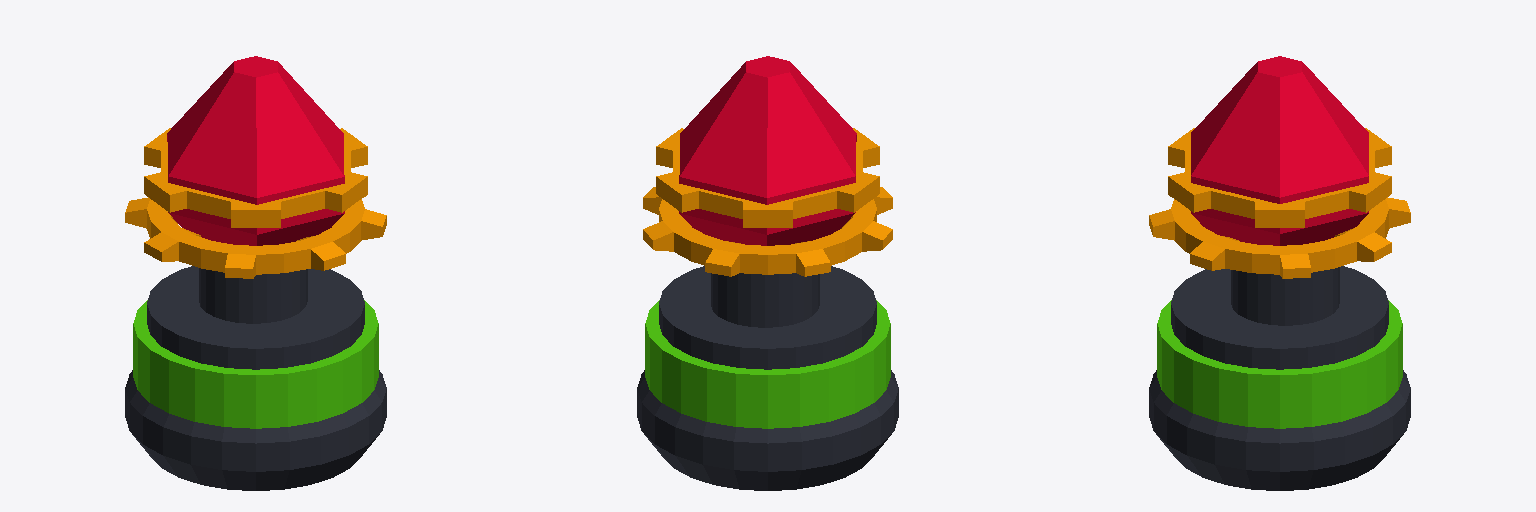
The model's file is tower_asteriated_ruby.obj.
The picture shows the model from 3 angles: view 1: azimuth 30°, elevation 25°; view 2: azimuth 150°, elevation 25°; view 3: azimuth 270°, elevation 25°; orthographic projection.
Visible parts, largest first — view 1: mergedBlocks; view 2: mergedBlocks; view 3: mergedBlocks.
Part boxes in pixels (x1,y1,x2,y2): mergedBlocks: (125,56,386,490); mergedBlocks: (637,56,898,490); mergedBlocks: (1149,56,1410,490).
Size of the model in its own units: 0.96 by 1.53 by 0.96.